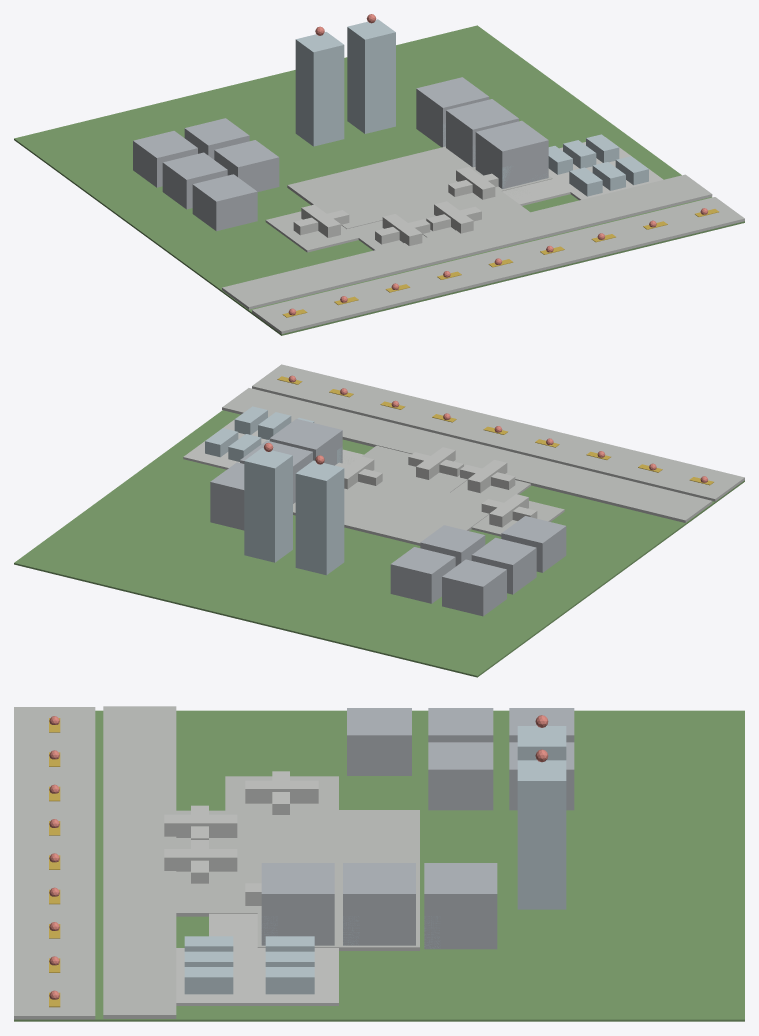
Rendered from stage_22.glb.
3 renders of one model, top to bottom at view 1: azimuth 30°, elevation 25°; view 2: azimuth 150°, elevation 25°; view 3: azimuth 270°, elevation 25°, orthographic. The views are drawn at different scales.
Visible parts, largest first — view 1: geometry_0; view 2: geometry_0; view 3: geometry_0.
Boxes of the visible parts, x1=… form: geometry_0: x1=14, y1=14, x2=744, y2=335; geometry_0: x1=14, y1=364, x2=744, y2=677; geometry_0: x1=14, y1=706, x2=744, y2=1021.
Bounding box in the file's own units: 9 × 2.06 × 9.
